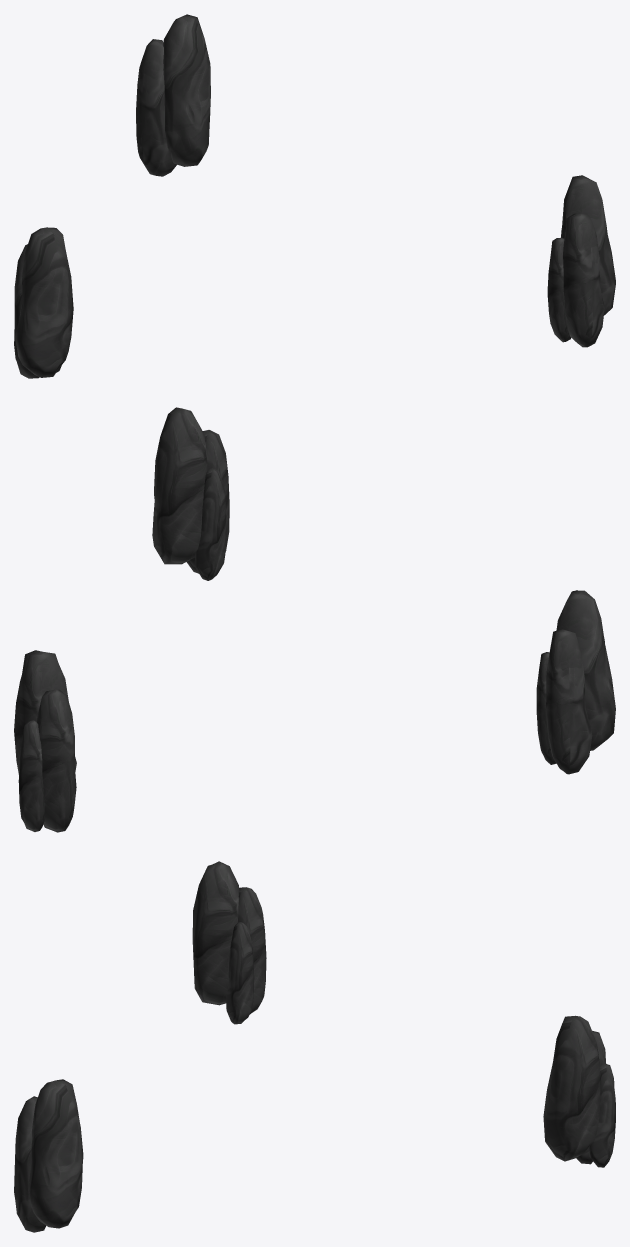
The model's file is CaveIslandWaterRocksShape.dae.
The picture shows the model from 3 angles, top to bottom: view 1: azimuth 30°, elevation 25°; view 2: azimuth 150°, elevation 25°; view 3: azimuth 270°, elevation 25°; orthographic projection. The views are drawn at different scales.
Parts seen in each view (by area): view 1: CaveIslandWaterRocks; view 2: CaveIslandWaterRocks; view 3: CaveIslandWaterRocks.
Part boxes in pixels (x1,y1,x2,y2): CaveIslandWaterRocks: (14,14,615,378); CaveIslandWaterRocks: (14,407,615,832); CaveIslandWaterRocks: (14,861,615,1232).
Size of the model in its own units: 527 by 156 by 547.
